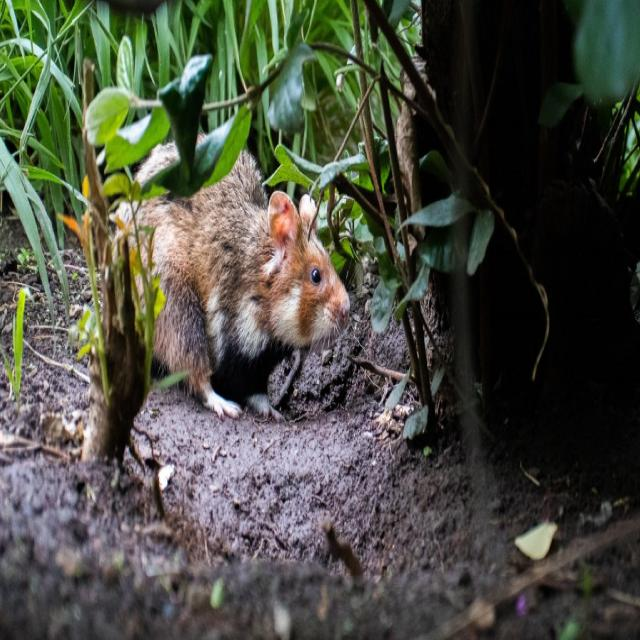hamster: (116, 157, 348, 417)
